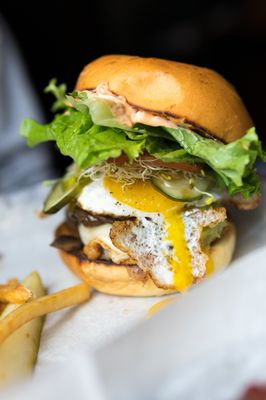soup: (20, 55, 264, 297)
